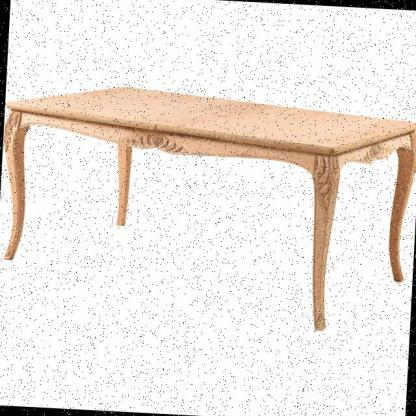Table: (0, 38, 416, 346)
